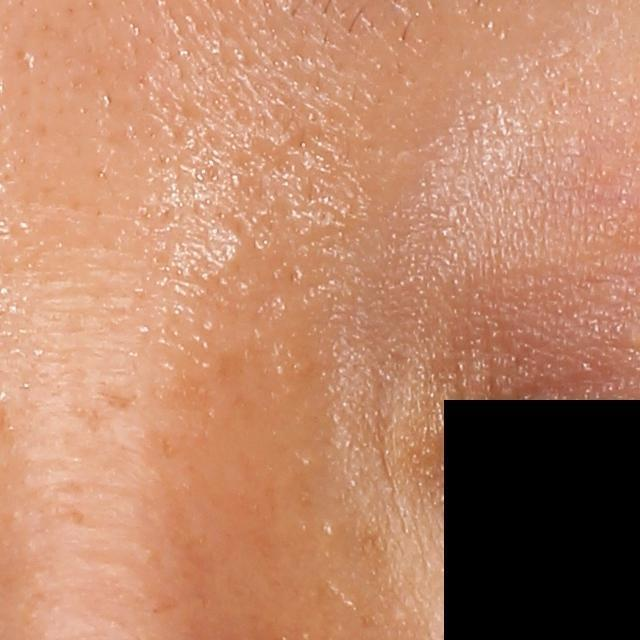melasma: (210, 344, 258, 392), (97, 383, 140, 413)
